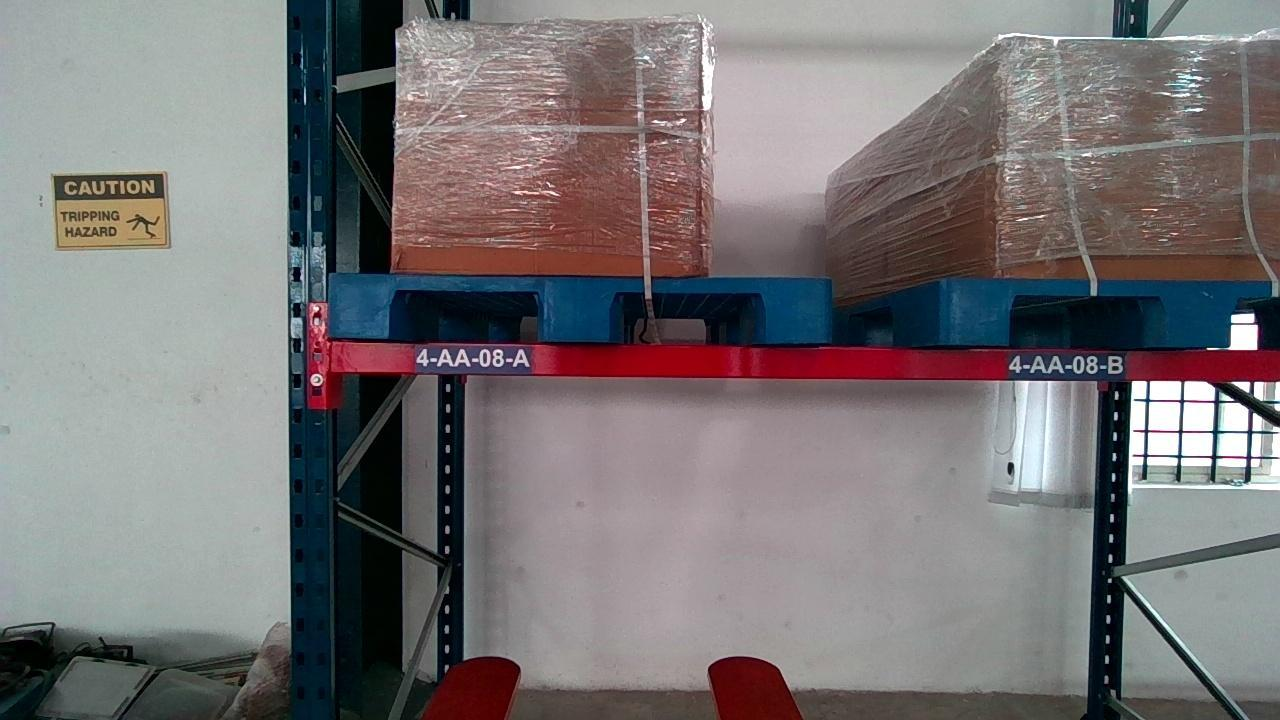h_rack: (316, 342, 1280, 384)
small_pallet: (326, 276, 828, 341), (955, 280, 1279, 352)
